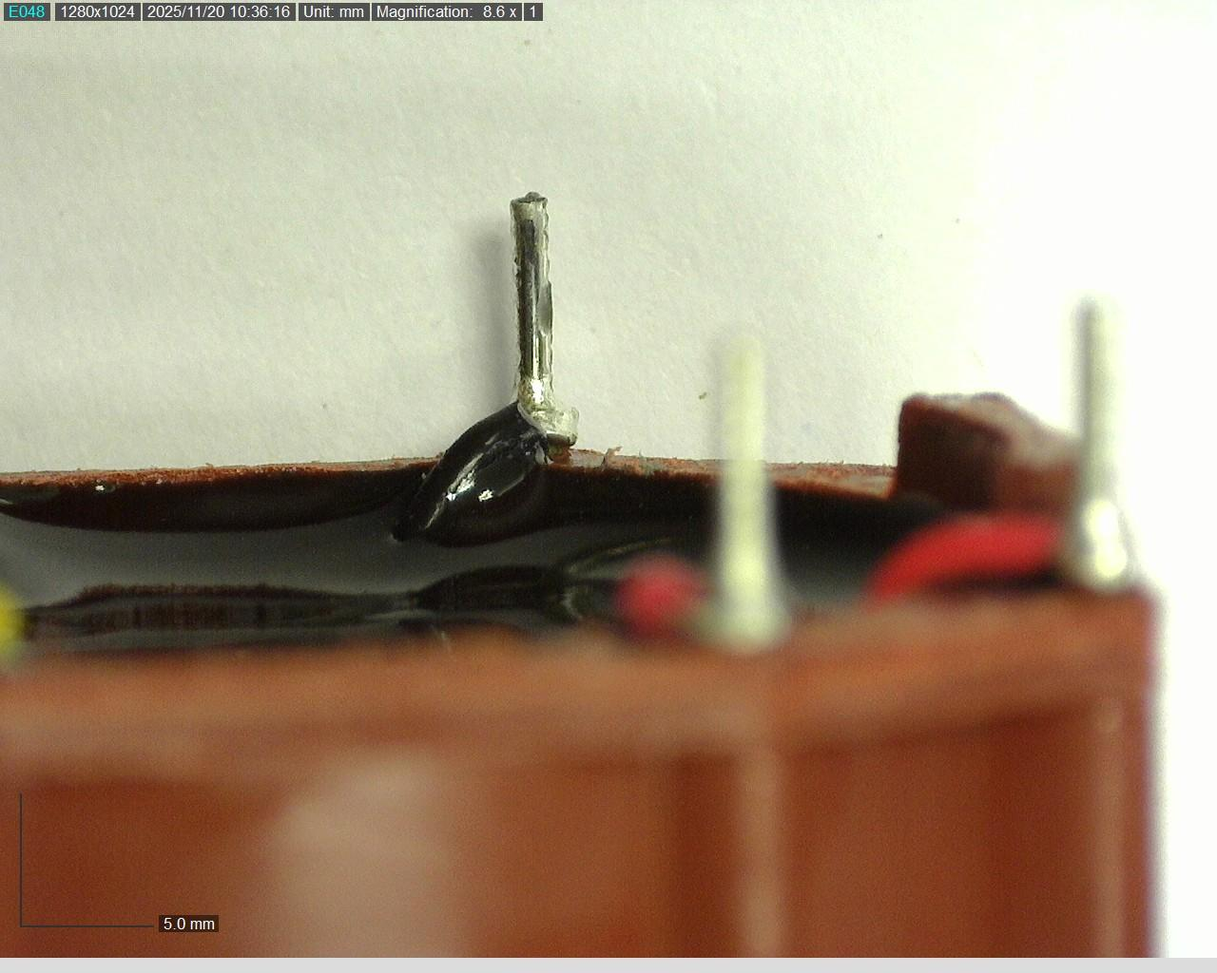glue: (487, 185, 584, 439)
